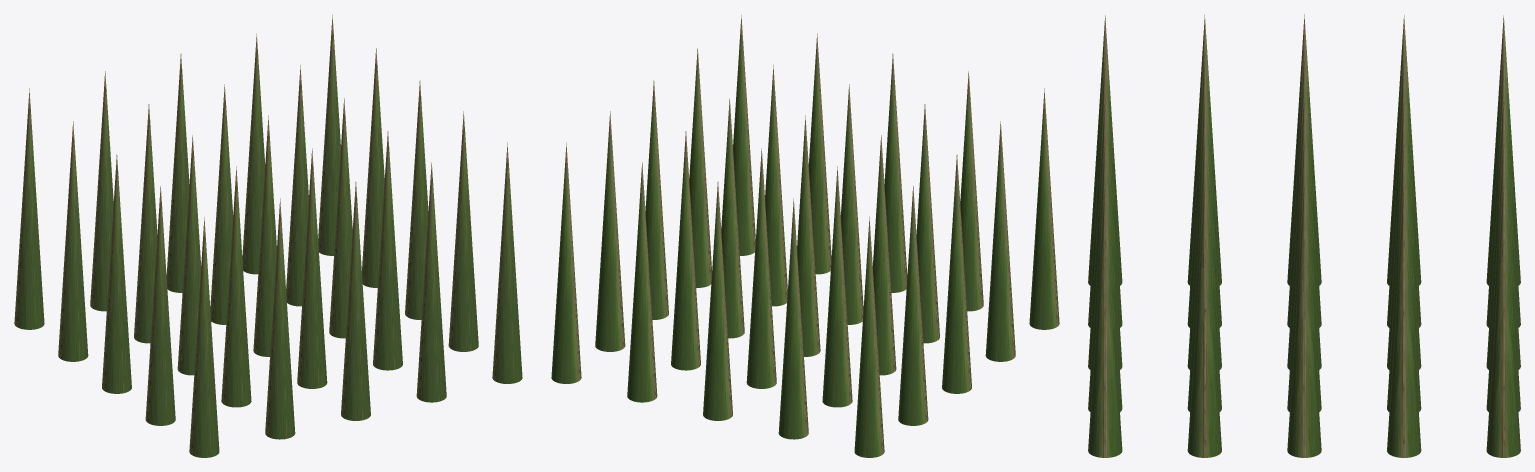
File: spike.fbx
The picture shows the model from 3 angles, left to right: view 1: azimuth 30°, elevation 25°; view 2: azimuth 150°, elevation 25°; view 3: azimuth 270°, elevation 25°; orthographic projection. The views are drawn at different scales.
Visible parts, largest first — view 1: spike_field; view 2: spike_field; view 3: spike_field.
Boxes of the visible parts, x1,y1,x2,y2 form: spike_field: (14, 15, 522, 457); spike_field: (551, 15, 1059, 457); spike_field: (1088, 14, 1520, 457).
Bounding box in the file's own units: 217 × 148 × 217.
1 material, 1 textured.
